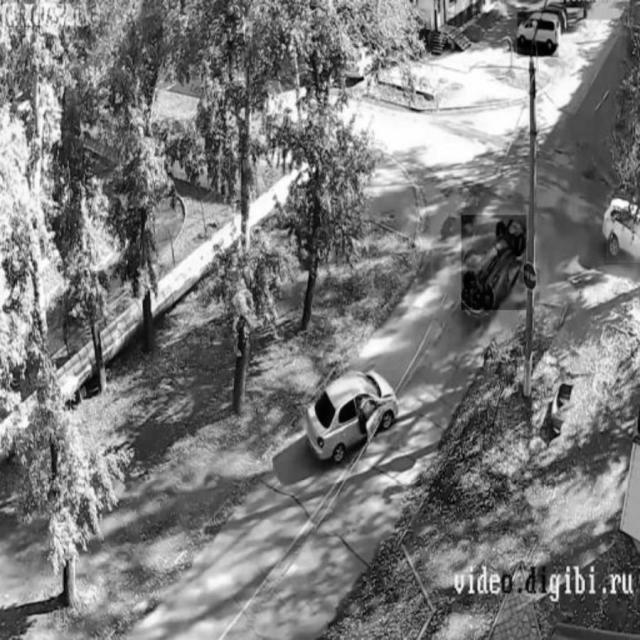vehicle: (306, 370, 398, 451), (461, 215, 525, 309), (606, 196, 640, 263), (518, 11, 559, 57)
